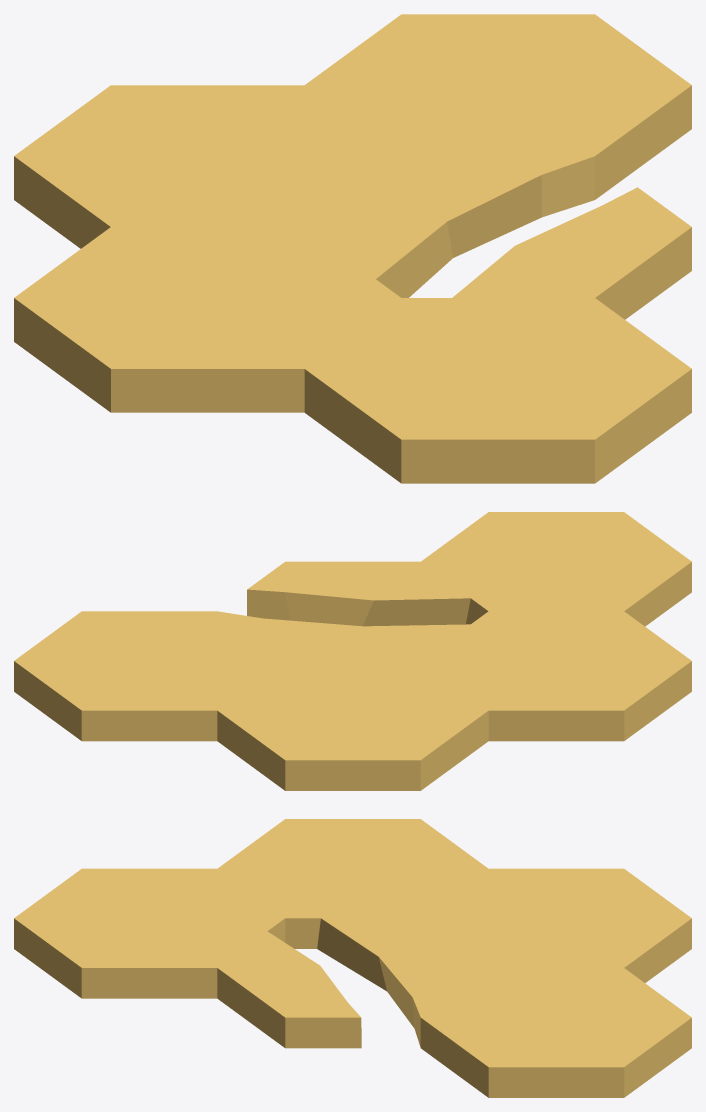
The model's file is desertCustom.fbx.
3 renders of one model, top to bottom at view 1: azimuth 30°, elevation 25°; view 2: azimuth 150°, elevation 25°; view 3: azimuth 270°, elevation 25°, orthographic. The views are drawn at different scales.
Visible parts, largest first — view 1: Cylinder, Cylinder.002, Cylinder.003, Cylinder.004, Cylinder.001; view 2: Cylinder.004, Cylinder.003, Cylinder.002, Cylinder, Cylinder.001; view 3: Cylinder.003, Cylinder, Cylinder.004, Cylinder.002, Cylinder.001.
Part boxes in pixels (<box>): Cylinder: <box>304,298,691,483</box>; Cylinder.002: <box>14,227,400,412</box>; Cylinder.003: <box>305,14,691,199</box>; Cylinder.004: <box>14,85,400,248</box>; Cylinder.001: <box>305,156,691,319</box>; Cylinder.004: <box>217,661,488,790</box>; Cylinder.003: <box>14,611,284,741</box>; Cylinder.002: <box>421,611,691,741</box>; Cylinder: <box>421,512,691,626</box>; Cylinder.001: <box>218,561,470,660</box>; Cylinder.003: <box>420,968,691,1097</box>; Cylinder: <box>14,868,285,998</box>; Cylinder.004: <box>421,868,691,982</box>; Cylinder.002: <box>217,819,488,948</box>; Cylinder.001: <box>217,918,487,1048</box>.
Size of the model in its own units: 8.66 by 0.5 by 10.
1 material, 1 textured.
